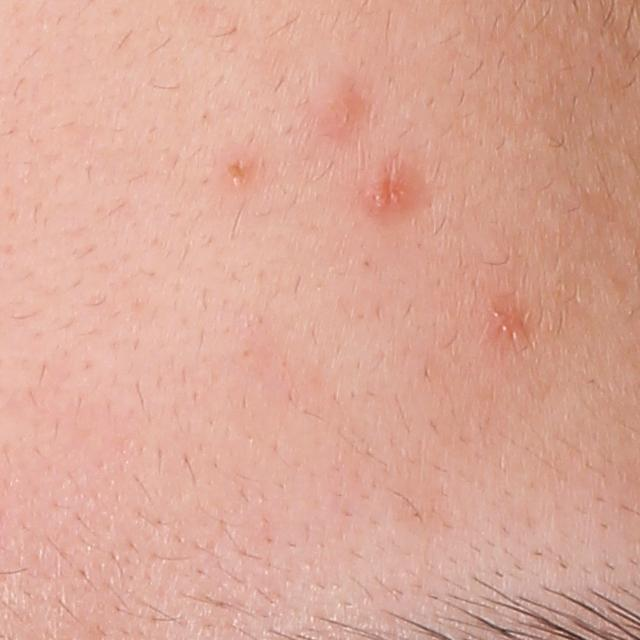papule: (356, 161, 425, 220), (314, 78, 365, 139), (215, 151, 258, 192)
